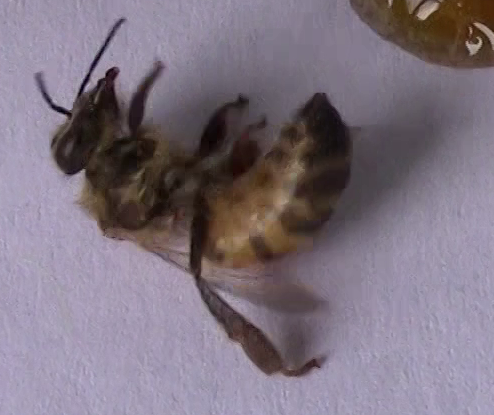Varroa destructor: (96, 217, 127, 243)
